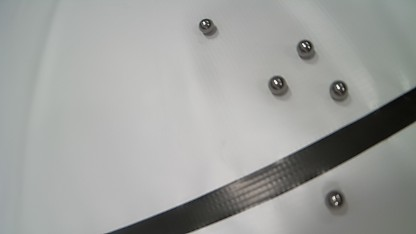ironball: (268, 75, 288, 95), (329, 80, 348, 101), (297, 39, 315, 58), (326, 190, 343, 208), (199, 18, 215, 34)
